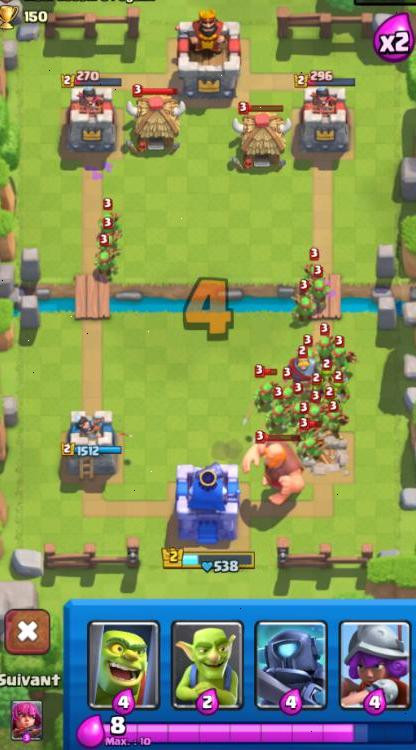enemy_giant: (240, 431, 309, 508)
enemy_goblin_hut: (123, 81, 188, 155), (229, 101, 293, 173)
enemy_knight: (284, 344, 324, 382)
enemy_spear_goblins: (263, 394, 298, 435), (319, 394, 351, 437), (251, 365, 281, 410), (297, 423, 330, 463), (329, 338, 359, 374), (289, 288, 319, 321), (91, 248, 123, 277), (96, 198, 124, 230), (306, 273, 334, 303), (312, 324, 339, 355), (96, 223, 125, 251), (301, 248, 325, 276)
